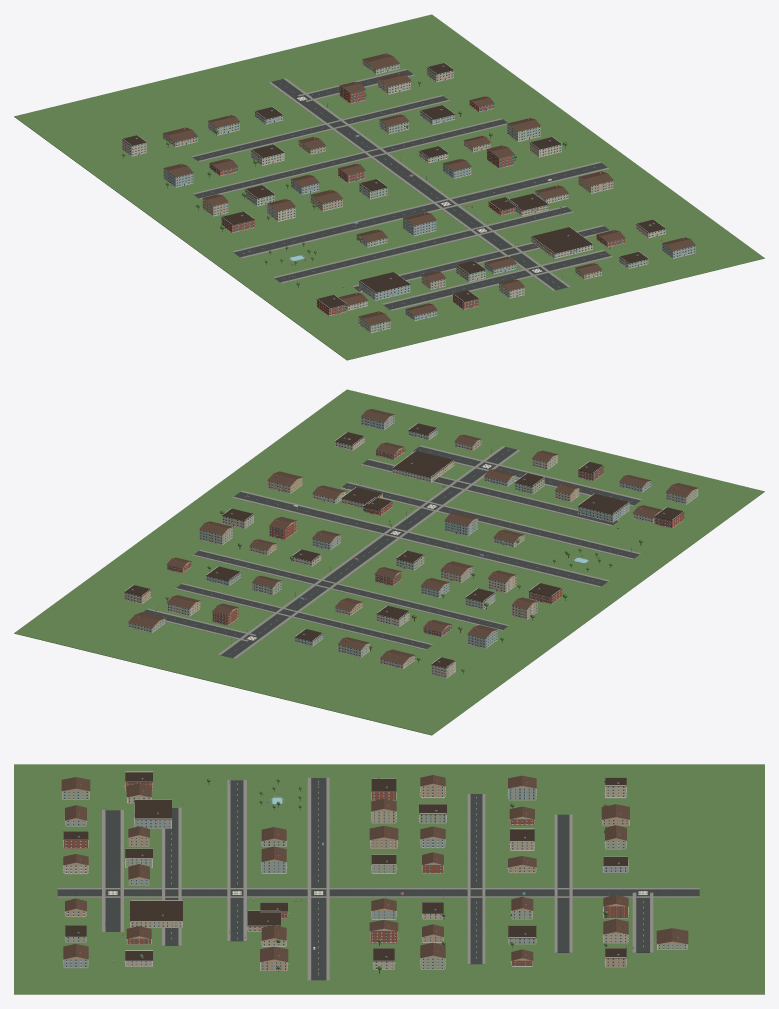
Rendered from LinguaCity.glb.
The picture shows the model from 3 angles, top to bottom: view 1: azimuth 30°, elevation 25°; view 2: azimuth 150°, elevation 25°; view 3: azimuth 270°, elevation 25°; orthographic projection. The views are drawn at different scales.
Visible parts, largest first — view 1: city_grass, city_asphalt, city_sidewalk, city_roof_tile, city_roof_slate, city_trim, city_glass, city_curb, city_wall_blue, city_wall_cream, city_wall_sand, city_wall_sage (+1 smaller); view 2: city_grass, city_asphalt, city_sidewalk, city_roof_tile, city_roof_slate, city_trim, city_glass, city_curb, city_wall_cream, city_wall_blue, city_wall_sand, city_wall_sage (+1 smaller); view 3: city_grass, city_asphalt, city_sidewalk, city_roof_tile, city_roof_slate, city_trim, city_wall_sand, city_curb, city_wall_cream, city_glass, city_wall_blue, city_wall_sage (+1 smaller).
Boxes of the visible parts, x1,y1,x2,y2 form: city_grass: [14, 14, 764, 360]; city_asphalt: [193, 70, 610, 309]; city_sidewalk: [138, 68, 686, 331]; city_roof_tile: [163, 53, 695, 325]; city_roof_slate: [122, 63, 665, 308]; city_trim: [122, 60, 695, 333]; city_glass: [123, 61, 694, 331]; city_curb: [194, 70, 610, 309]; city_wall_blue: [163, 111, 695, 320]; city_wall_cream: [122, 79, 665, 310]; city_wall_sand: [163, 60, 671, 322]; city_wall_sage: [208, 60, 648, 332]; city_grass: [14, 389, 764, 735]; city_asphalt: [143, 446, 640, 658]; city_sidewalk: [147, 445, 641, 658]; city_roof_tile: [128, 409, 698, 664]; city_roof_slate: [124, 423, 684, 667]; city_trim: [124, 417, 697, 678]; city_glass: [125, 416, 695, 677]; city_curb: [146, 446, 640, 657]; city_wall_cream: [167, 437, 654, 678]; city_wall_blue: [206, 415, 651, 648]; city_wall_sand: [124, 415, 697, 668]; city_wall_sage: [128, 429, 698, 657]; city_grass: [14, 764, 764, 994]; city_asphalt: [57, 778, 699, 980]; city_sidewalk: [57, 777, 699, 980]; city_roof_tile: [61, 775, 688, 961]; city_roof_slate: [63, 772, 627, 961]; city_trim: [62, 771, 687, 970]; city_wall_sand: [65, 784, 684, 970]; city_curb: [58, 778, 699, 979]; city_wall_cream: [64, 786, 627, 969]; city_glass: [64, 782, 685, 969]; city_wall_blue: [64, 788, 627, 968]; city_wall_sage: [62, 791, 687, 969].
Size of the model in its own units: 500 by 16.63 by 690.
Materials: 45 (16 with a texture image).
